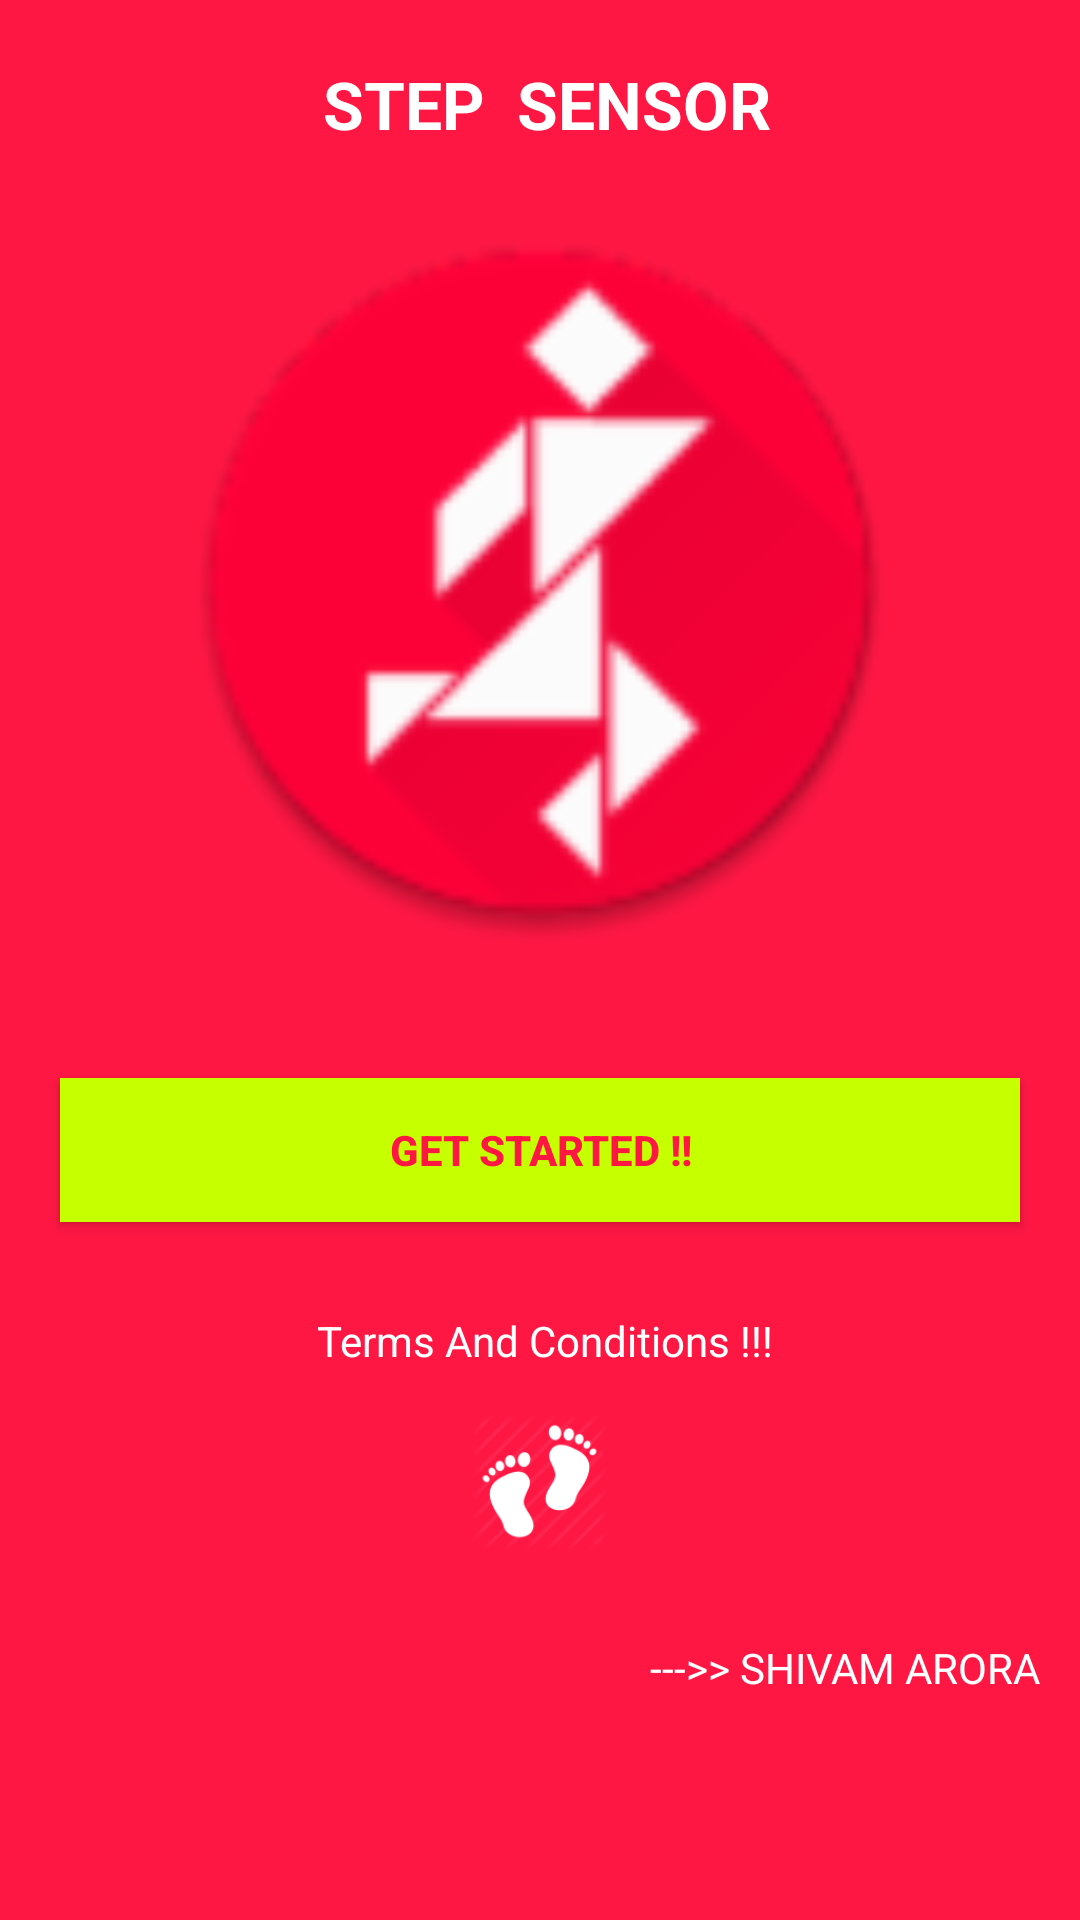

Locate icon controls on the screen. Image size 1080px x 1920px, boxes as (x1, y1, x2, y2).
footprint: (482, 1425, 597, 1538)
